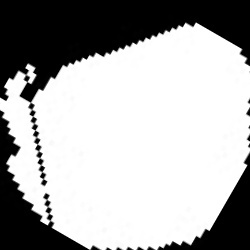spot: (1, 22, 249, 248)
